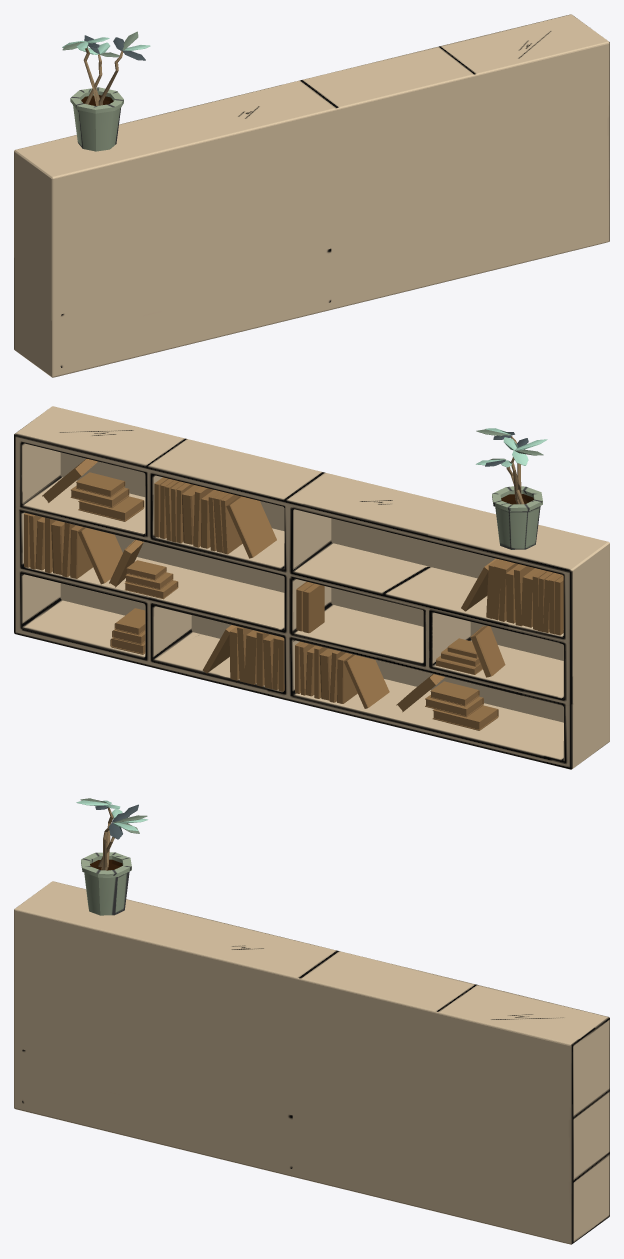
The model's file is shelf04_20.glb.
3 views of the same model, one above another, from view 1: azimuth 30°, elevation 25°; view 2: azimuth 150°, elevation 25°; view 3: azimuth 330°, elevation 25° (orthographic).
Visible parts, largest first — view 1: Bookshellf, Plant; view 2: Bookshellf, books3.001, books3, books.001, books.003, Plant, books.002, book2.001, book2, book.013, book.010, book.012 (+9 smaller); view 3: Bookshellf, Plant.
Part boxes in pixels (left/top/right/bottom): Bookshellf: left=14, top=14, right=609, bottom=377; Plant: left=62, top=31, right=150, bottom=151; Bookshellf: left=14, top=406, right=609, bottom=769; books3.001: left=154, top=477, right=276, bottom=558; books3: left=461, top=558, right=563, bottom=635; books.001: left=24, top=513, right=122, bottom=584; books.003: left=295, top=641, right=389, bottom=708; Plant: left=476, top=428, right=547, bottom=549; books.002: left=202, top=625, right=284, bottom=691; book2.001: left=470, top=625, right=505, bottom=677; book2: left=303, top=583, right=324, bottom=633; book.013: left=432, top=705, right=498, bottom=730; book.010: left=78, top=496, right=144, bottom=521; book.012: left=76, top=472, right=125, bottom=497; Bookshellf: left=14, top=881, right=609, bottom=1244; Plant: left=76, top=798, right=147, bottom=915.
Bounding box in the file's own units: 13.22 × 6.9 × 1.89.
Materials: 8 (2 with a texture image).
